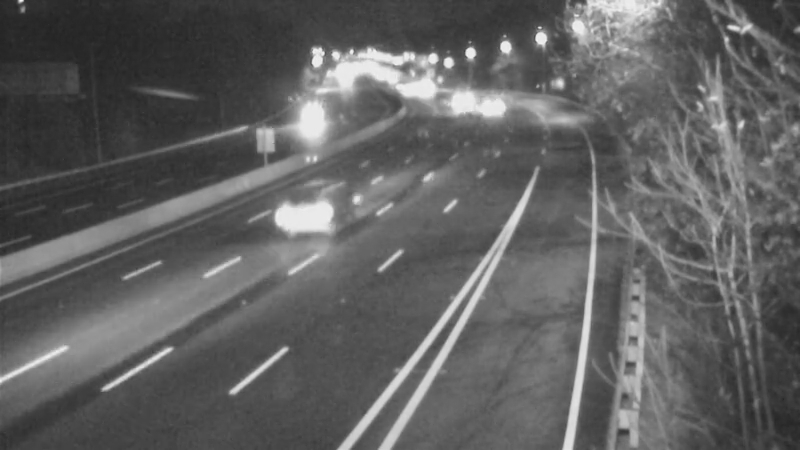vehicle: (257, 175, 337, 255), (433, 66, 483, 116), (438, 82, 488, 132), (460, 82, 510, 132), (271, 106, 321, 156)
